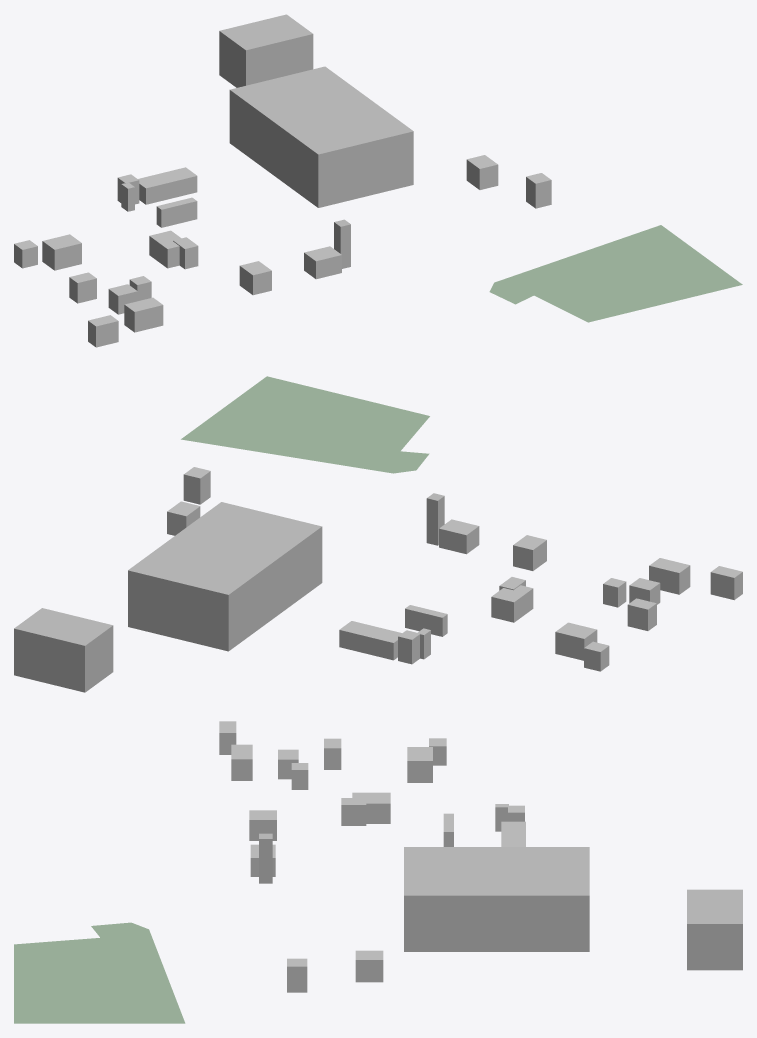
File: 123_113_mid.glb
3 views of the same model, one above another, from view 1: azimuth 30°, elevation 25°; view 2: azimuth 150°, elevation 25°; view 3: azimuth 270°, elevation 25° (orthographic). The views are drawn at different scales.
Bounding box in the file's own units: 472 × 44.62 × 518.
